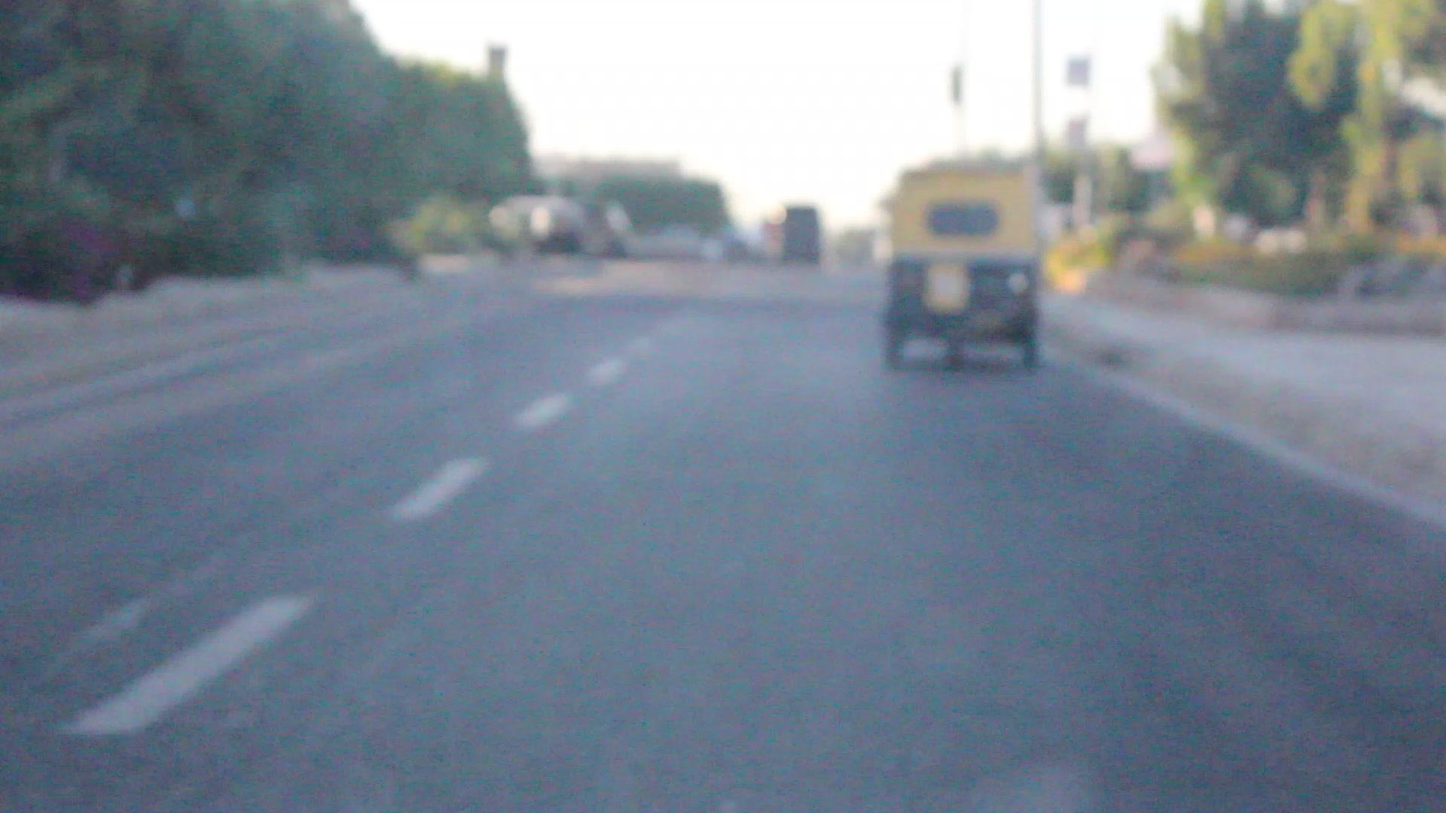Bump: (387, 281, 894, 322)
